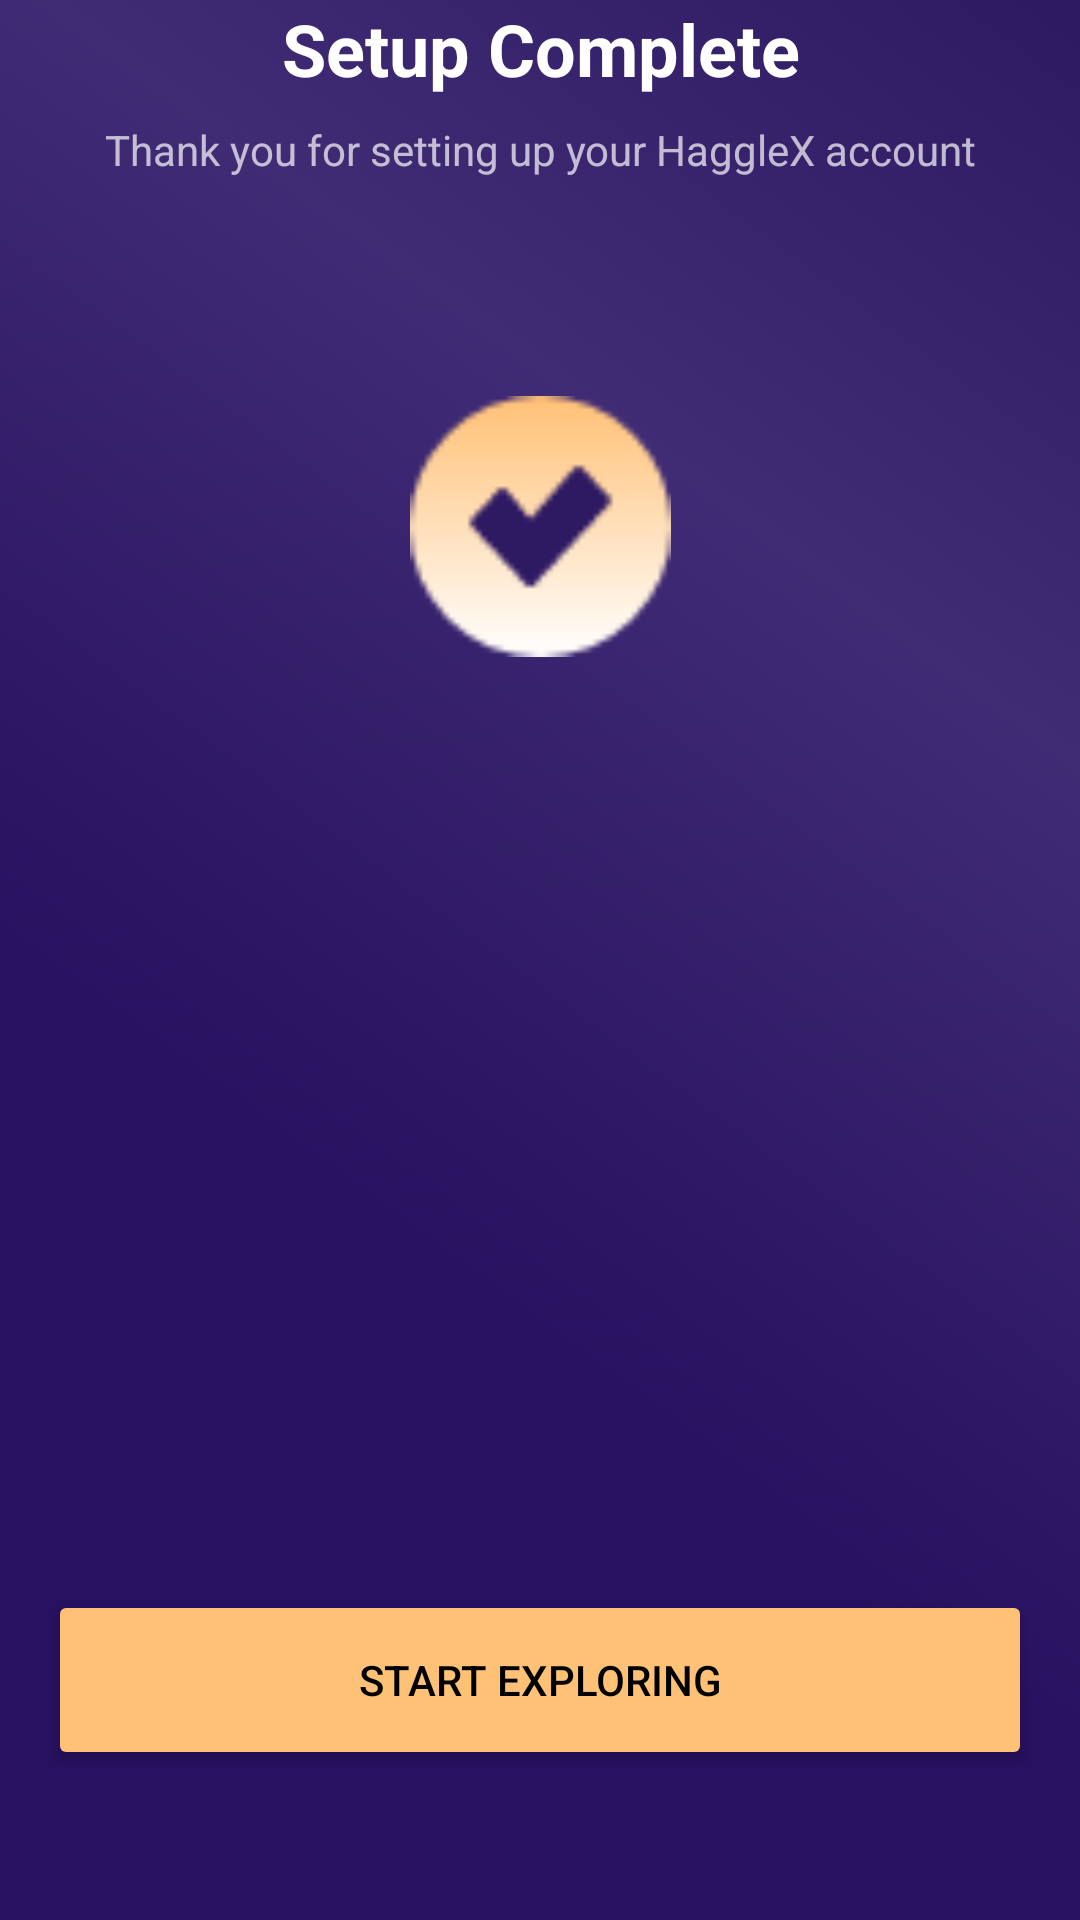

Icons on this 1080×1920 Android screen, each with the point to tap as point (x, y):
setup complete: point (540, 526)
